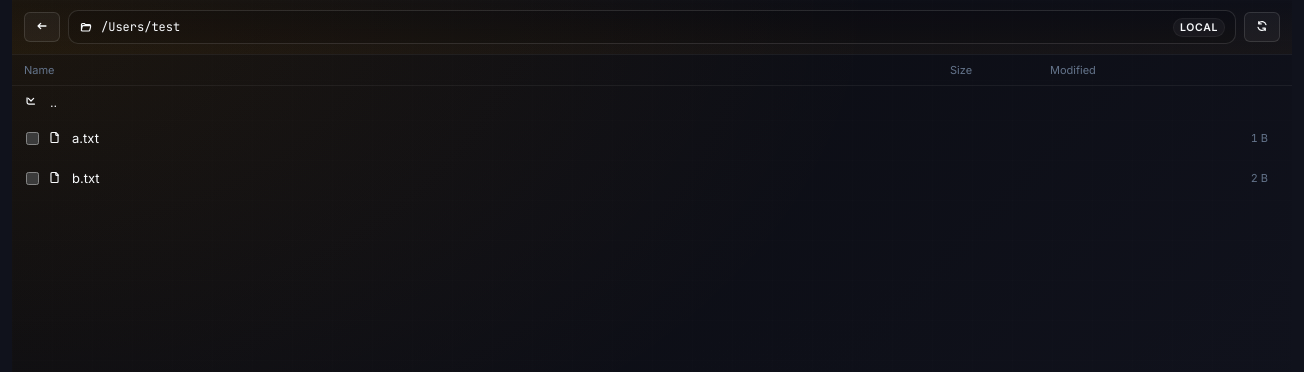
Test case: LocalBrowser multi-select drag › packs all checked files into one drag payload
The width and height of the screenshot is (1304, 372).
Check: the text "a.txt" is shown, box [72, 130, 99, 146]
Step 1. Click the checkbox named "Select a.txt" → (32, 138), box [26, 132, 39, 144]
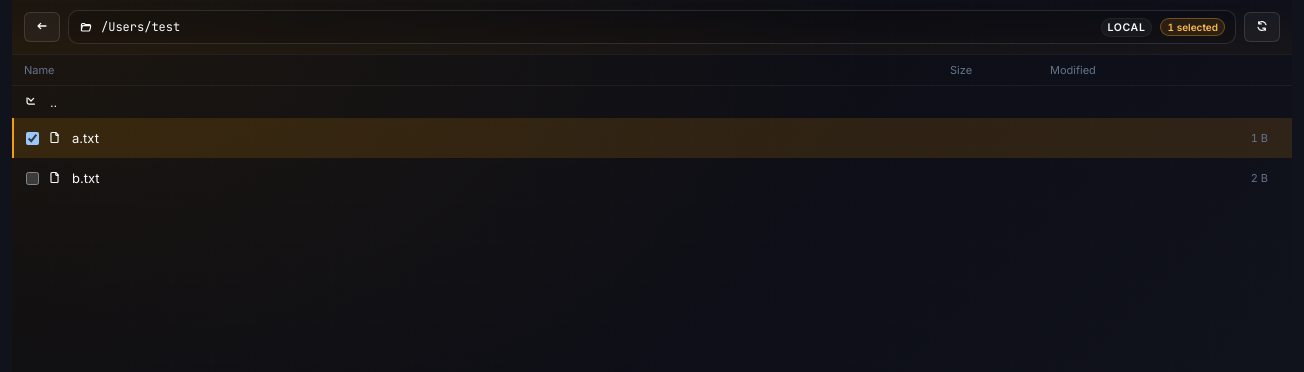
Step 2. Click the checkbox named "Select b.txt" → (32, 178), box [26, 172, 39, 184]
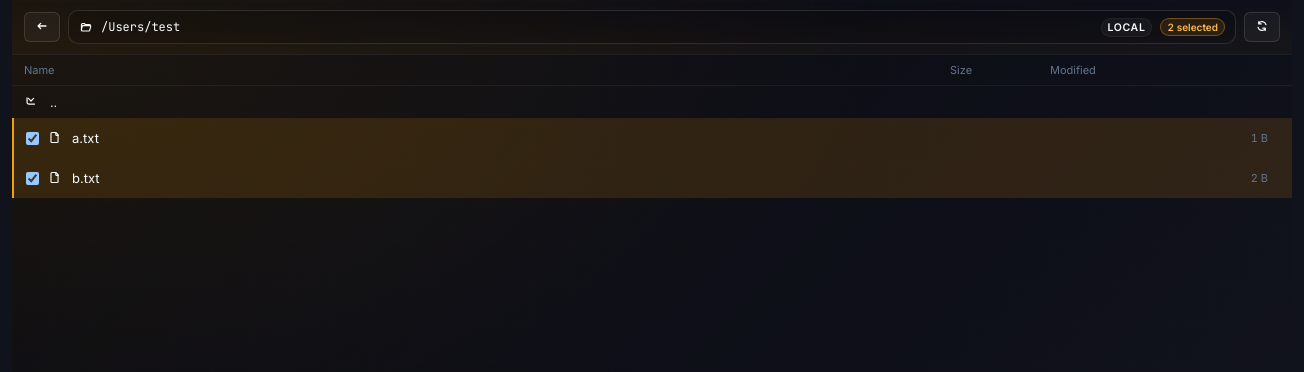
Check: the text "2 selected" is shown, box [1160, 18, 1225, 36]
